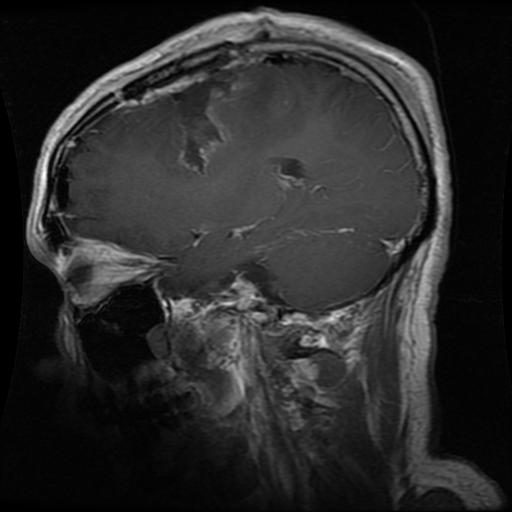Gliomia_tumour: (169, 69, 240, 173)
